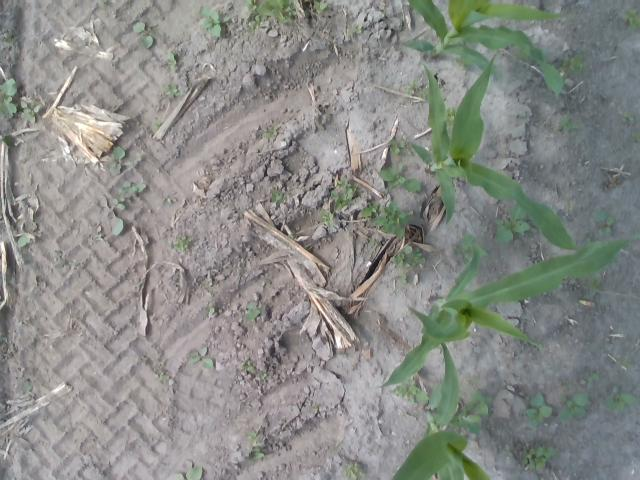Maize: (410, 52, 601, 294), (374, 233, 640, 388), (402, 0, 568, 98), (386, 343, 491, 480)
Weeds: (448, 390, 492, 436), (244, 0, 296, 33), (370, 200, 411, 238), (494, 204, 532, 243), (96, 194, 126, 240), (378, 162, 422, 193), (452, 232, 488, 264), (519, 441, 557, 471), (522, 392, 554, 426), (391, 378, 430, 405), (330, 179, 360, 211), (200, 6, 230, 37), (389, 245, 426, 269), (105, 146, 134, 176), (606, 385, 638, 412), (558, 392, 588, 420), (0, 78, 18, 118), (186, 346, 214, 370), (133, 22, 155, 48), (164, 466, 203, 480), (594, 209, 614, 235), (406, 78, 429, 100), (388, 135, 412, 156), (562, 52, 584, 74), (342, 461, 367, 480), (20, 100, 40, 123), (554, 114, 581, 131), (622, 7, 640, 29), (580, 274, 602, 292), (118, 181, 146, 194), (162, 83, 182, 100), (169, 236, 191, 251), (245, 301, 260, 322), (268, 187, 286, 203), (444, 106, 458, 126), (619, 354, 634, 372), (359, 202, 378, 216), (516, 51, 533, 66), (320, 210, 334, 228), (165, 51, 178, 70), (312, 0, 328, 15), (245, 448, 264, 460), (246, 430, 260, 446), (239, 360, 255, 372), (16, 235, 32, 247), (152, 372, 170, 382), (265, 124, 277, 138), (502, 444, 514, 458), (347, 24, 363, 34), (2, 32, 15, 44), (585, 372, 600, 382), (622, 112, 634, 122), (566, 200, 574, 213), (22, 382, 32, 392), (400, 272, 408, 284), (584, 232, 592, 244), (631, 132, 640, 142), (205, 306, 216, 314), (260, 370, 268, 378), (370, 240, 380, 246), (154, 122, 161, 130), (100, 0, 106, 5)
